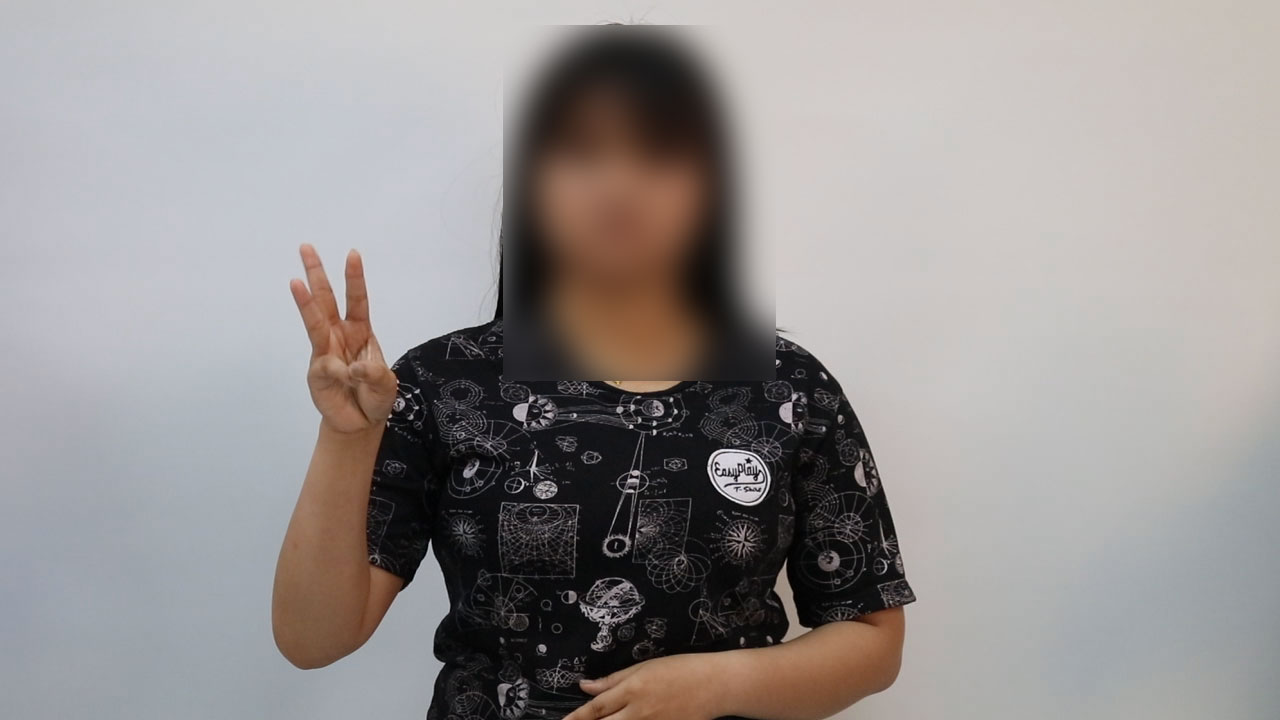wor: (281, 234, 406, 447)
